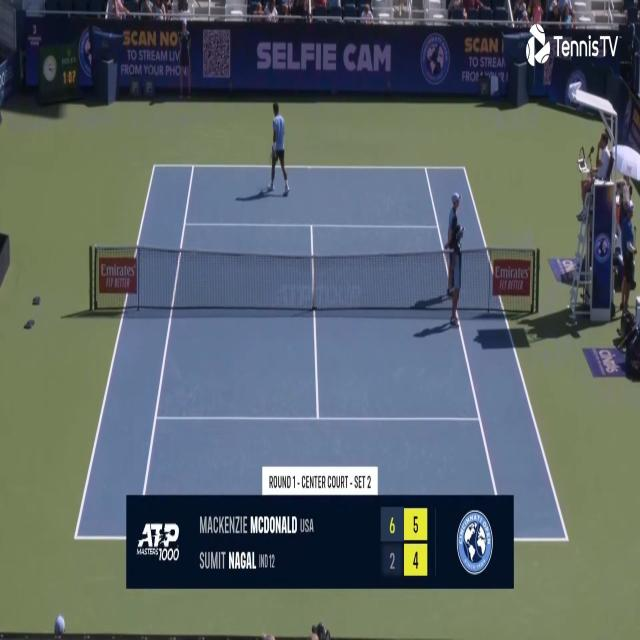tennis-player: (266, 99, 292, 198)
